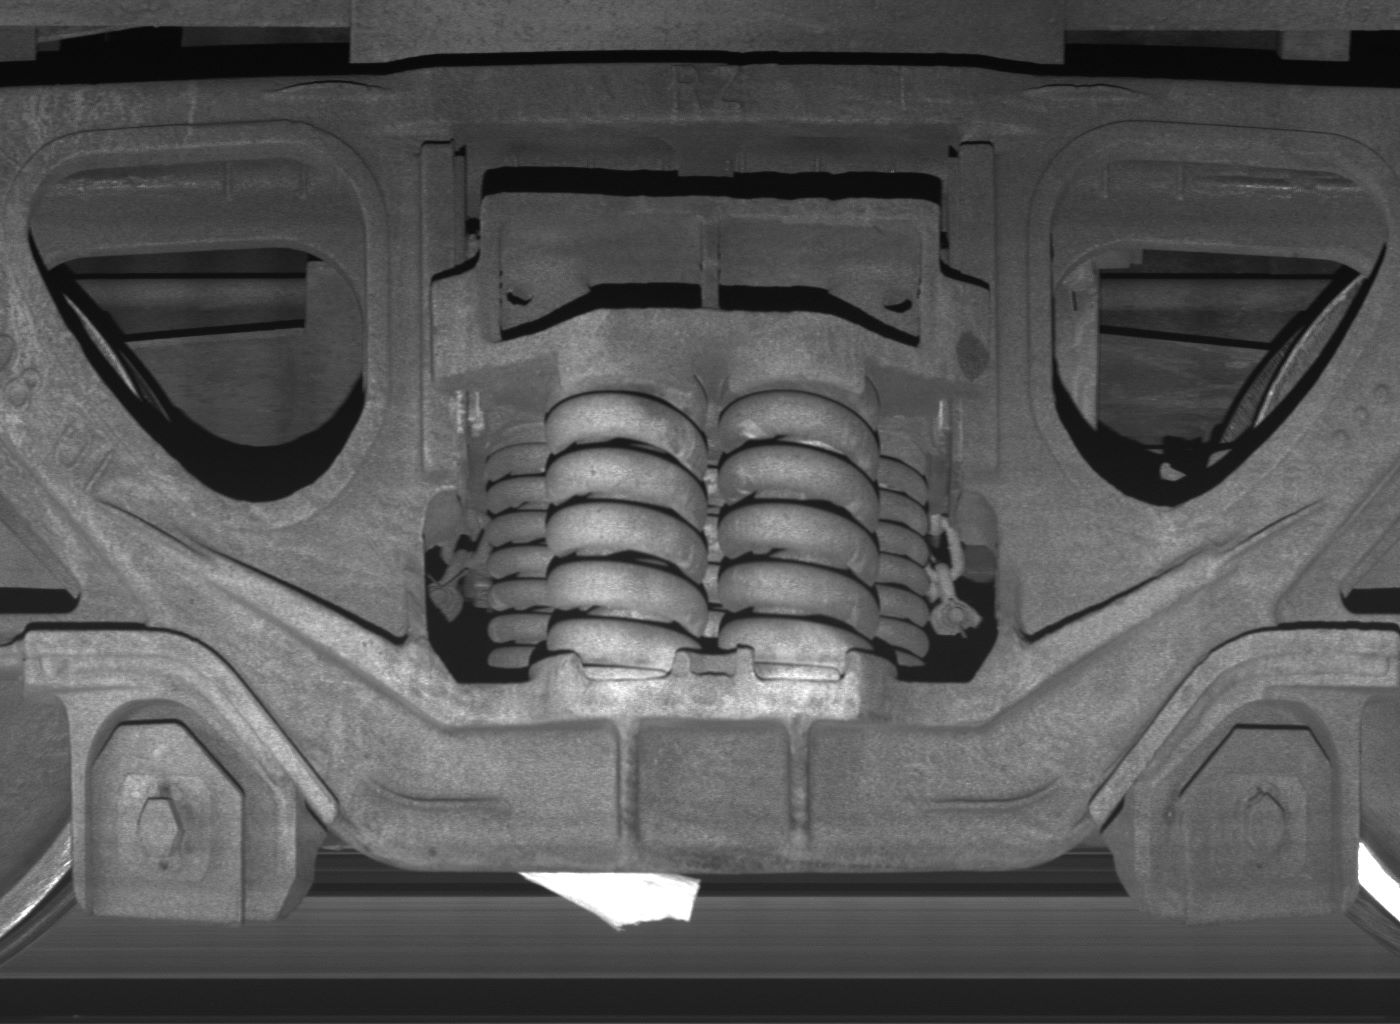normal: (1135, 691, 1360, 925), (74, 690, 296, 927)
